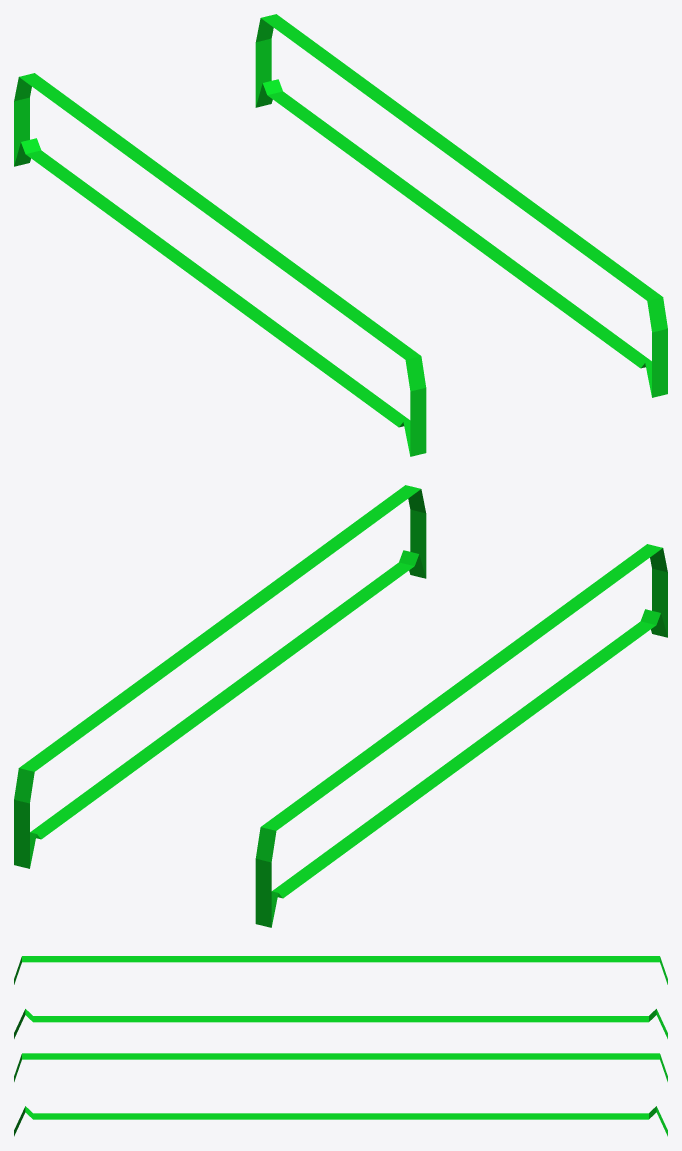
Rendered from packband.fbx.
3 views of the same model, one above another, from view 1: azimuth 30°, elevation 25°; view 2: azimuth 150°, elevation 25°; view 3: azimuth 270°, elevation 25° (orthographic). The views are drawn at different scales.
Visible parts, largest first — view 1: Packband.001, Packband; view 2: Packband.001, Packband; view 3: Packband.001, Packband.
Boxes of the visible parts, bbox=[...] form: Packband.001: bbox=[255, 14, 667, 397]; Packband: bbox=[14, 73, 426, 456]; Packband.001: bbox=[14, 485, 426, 868]; Packband: bbox=[255, 544, 667, 927]; Packband.001: bbox=[14, 1053, 667, 1136]; Packband: bbox=[14, 956, 667, 1038].
Size of the model in its own units: 45.59 by 15.81 by 121.
